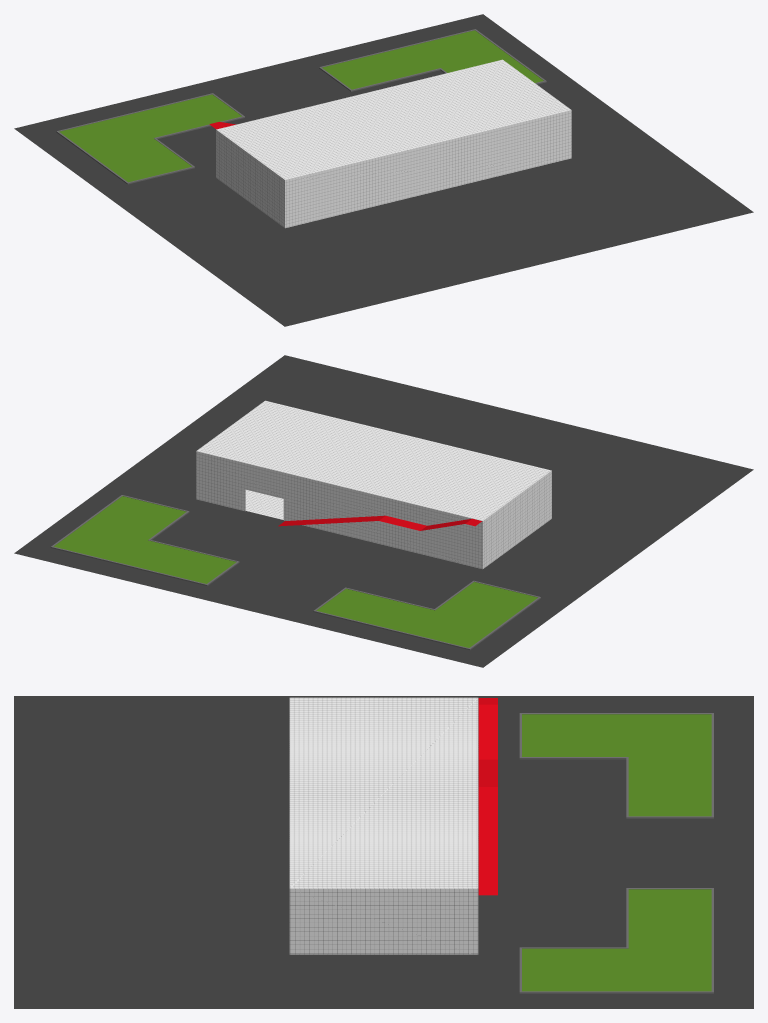
Rendered from gunTestRoom.glb.
3 renders of one model, top to bottom at view 1: azimuth 30°, elevation 25°; view 2: azimuth 150°, elevation 25°; view 3: azimuth 270°, elevation 25°, orthographic. The views are drawn at different scales.
Parts seen in each view (by area): view 1: Ground, Room, Cube.001, Cube; view 2: Ground, Room, Cube.001, Cube, Plane; view 3: Ground, Room, Cube, Cube.001, Plane.
Boxes of the visible parts, x1=… form: Ground: x1=14, y1=14, x2=753, y2=326; Room: x1=216, y1=59, x2=571, y2=228; Cube.001: x1=56, y1=93, x2=244, y2=184; Cube: x1=319, y1=29, x2=546, y2=91; Ground: x1=14, y1=355, x2=753, y2=667; Room: x1=196, y1=400, x2=551, y2=569; Cube.001: x1=313, y1=580, x2=540, y2=650; Cube: x1=50, y1=495, x2=239, y2=586; Plane: x1=278, y1=515, x2=481, y2=530; Ground: x1=14, y1=696, x2=753, y2=1008; Room: x1=289, y1=697, x2=478, y2=954; Cube: x1=519, y1=888, x2=713, y2=993; Cube.001: x1=519, y1=713, x2=713, y2=818; Plane: x1=478, y1=698, x2=497, y2=895.
Bounding box in the file's own units: 107 × 14.96 × 107.
Materials: 8 (1 with a texture image).
